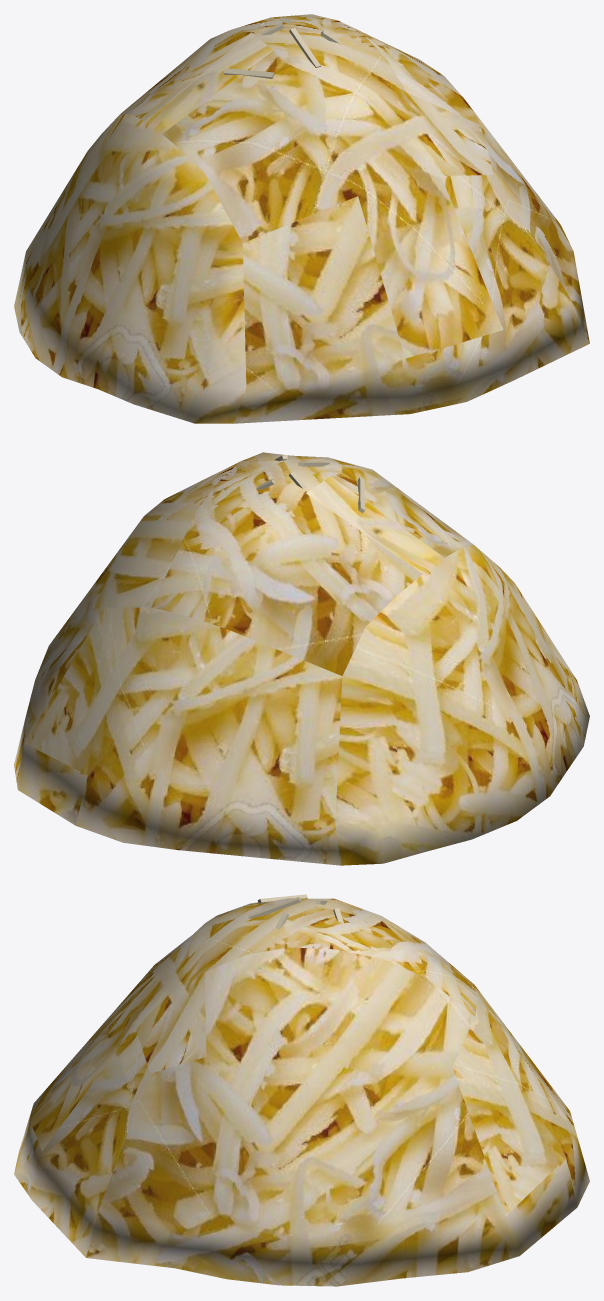
The model's file is gratedCheese.fbx.
The picture shows the model from 3 angles, top to bottom: view 1: azimuth 30°, elevation 25°; view 2: azimuth 150°, elevation 25°; view 3: azimuth 270°, elevation 25°; orthographic projection. The views are drawn at different scales.
Parts seen in each view (by area): view 1: pCube1; view 2: pCube1; view 3: pCube1.
Boxes of the visible parts, box(x1,y1,x2,y2) form: pCube1: box(14, 14, 589, 423); pCube1: box(14, 452, 589, 865); pCube1: box(14, 898, 589, 1286).
Bounding box in the file's own units: 10.16 × 5.78 × 10.59.
